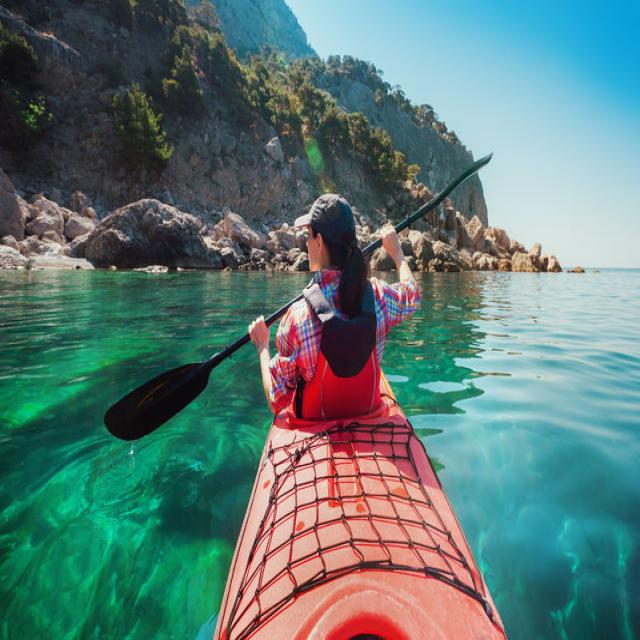reef: (86, 185, 282, 284), (457, 215, 584, 287)
